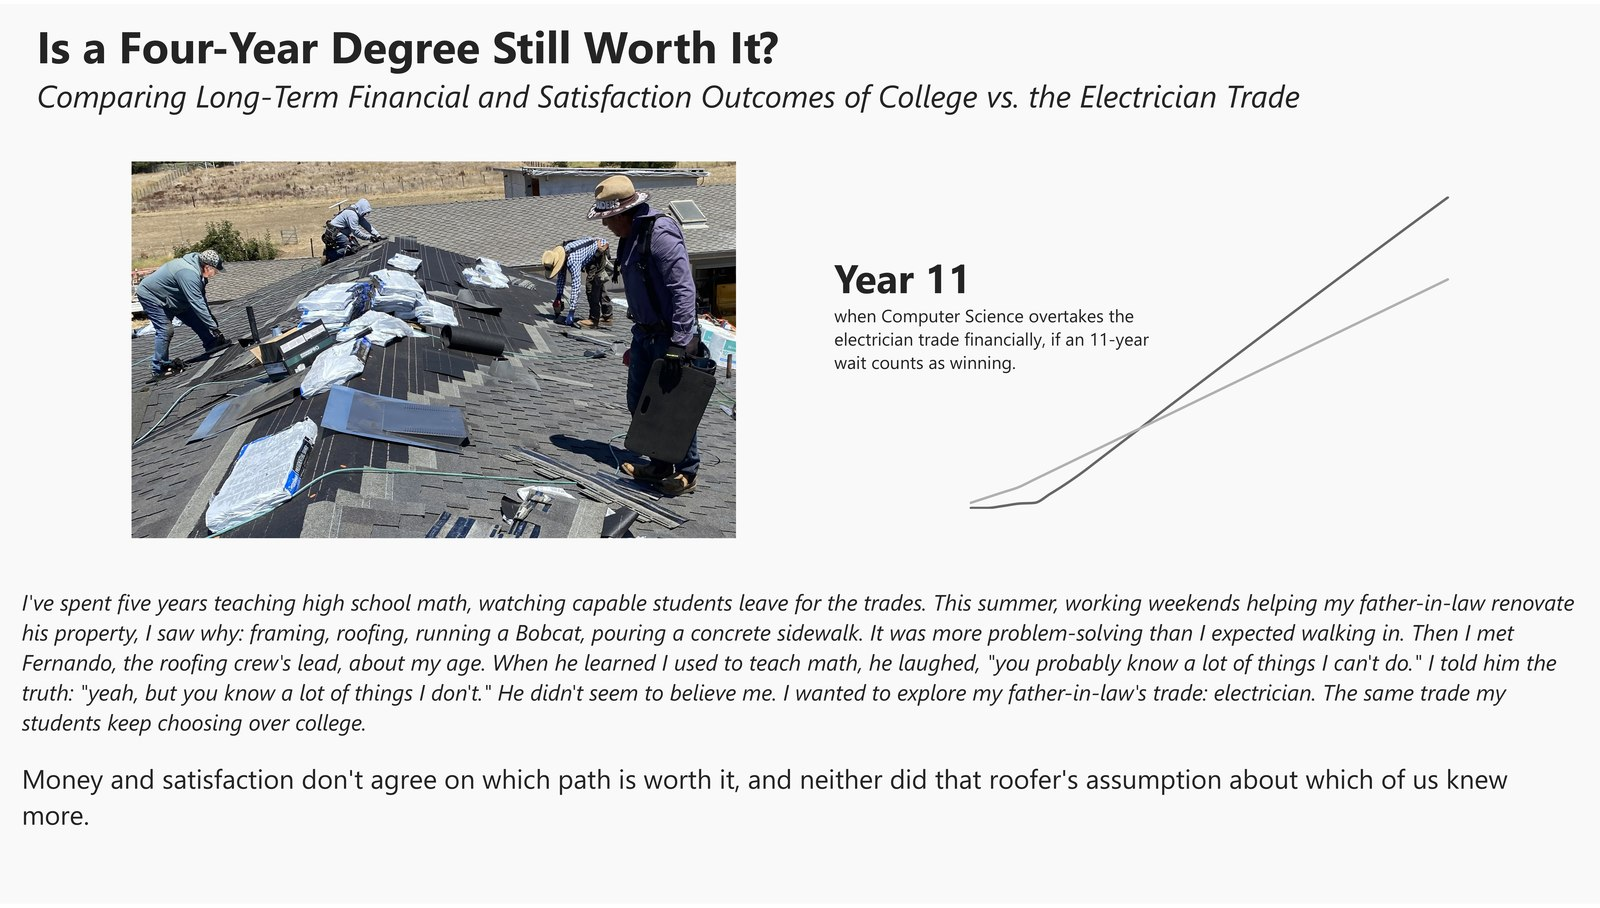

This screenshot's page, from the dashboard's own definition file:
{"tool":"powerbi","page":{"name":"Opening","canvas":[1920,1080],"ordinal":0},"visuals":[{"type":"lineChart","title":"Cumulative Earnings Net of Debt, by Career Path","fields":{"Category":["earnings_by_year.years_since_start"],"Series":["programs.display_name"],"Y":["Sum(earnings_by_year.cumulative_earnings_net_of_debt)"]},"box":[1154,325.1,624.4,412.9],"z":0},{"type":"textbox","box":[43.8,13.1,1559.6,151.7],"z":1000},{"type":"textbox","box":[44,589,703,150],"z":2000},{"type":"image","box":[137.1,293,700.3,477.1],"z":3000},{"type":"textbox","box":[137.1,796.6,1192,197],"z":4000},{"type":"textbox","box":[43.8,164.9,1734.7,134.2],"z":5000},{"type":"textbox","box":[1016.9,411.9,398.3,239.3],"z":6000},{"type":"textbox","box":[43.8,930.8,1734.7,102.1],"z":7000}]}

Visuals, with their boxes in screenshot pixels (x1, y1, x2, y2), scaled from the page's 1920x1080 canvas onto the 1600x908 screenshot:
"Cumulative Earnings Net of Debt, by Career Path" lineChart: box=[962, 273, 1482, 620]
textbox: box=[36, 11, 1336, 139]
textbox: box=[37, 495, 622, 621]
image: box=[114, 246, 698, 647]
textbox: box=[114, 670, 1108, 835]
textbox: box=[36, 139, 1482, 251]
textbox: box=[847, 346, 1179, 547]
textbox: box=[36, 783, 1482, 868]
